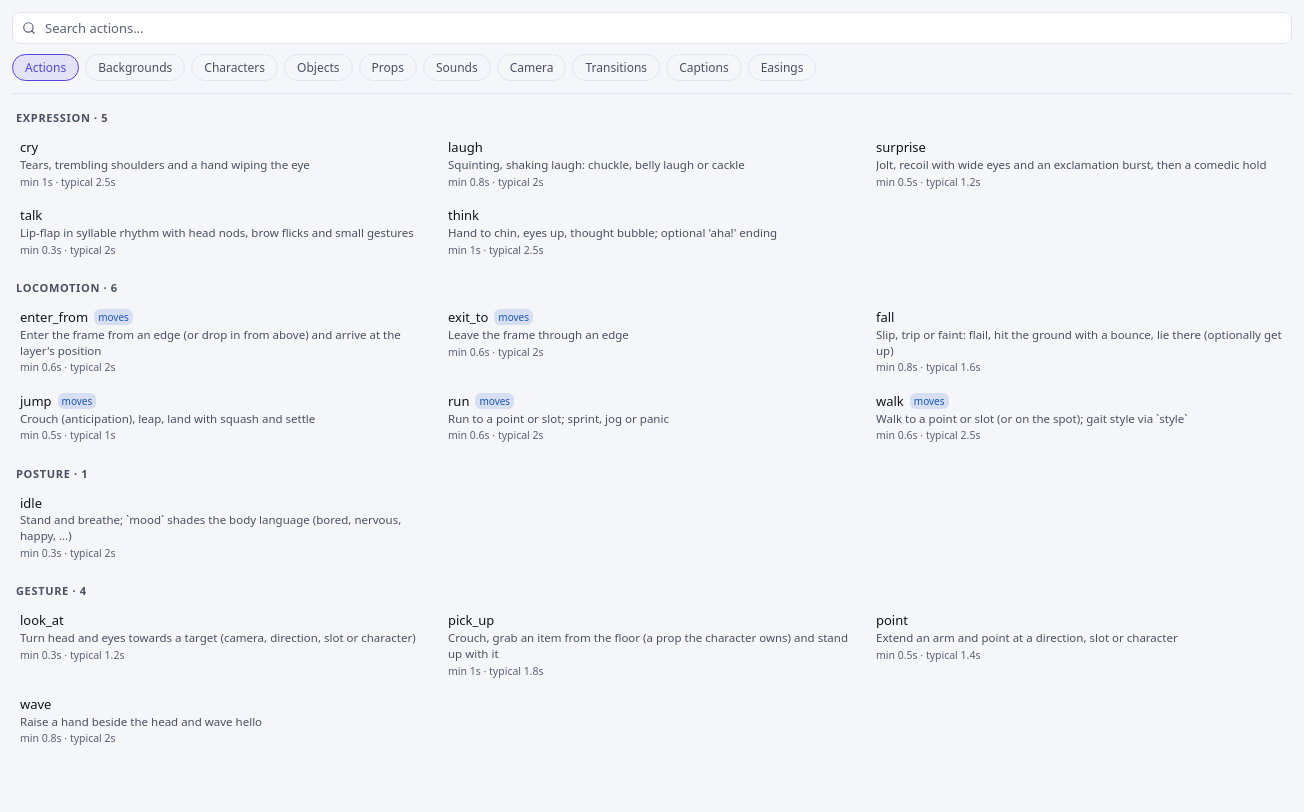
the library browser › searches by name and by what the entry says it does
The image size is (1304, 812).
Expected: the text "walk" is shown, [876,392,904,410]
In the field with placeholder "Search actions…": x=652, y=28 [12,12,1292,44], type "tears"
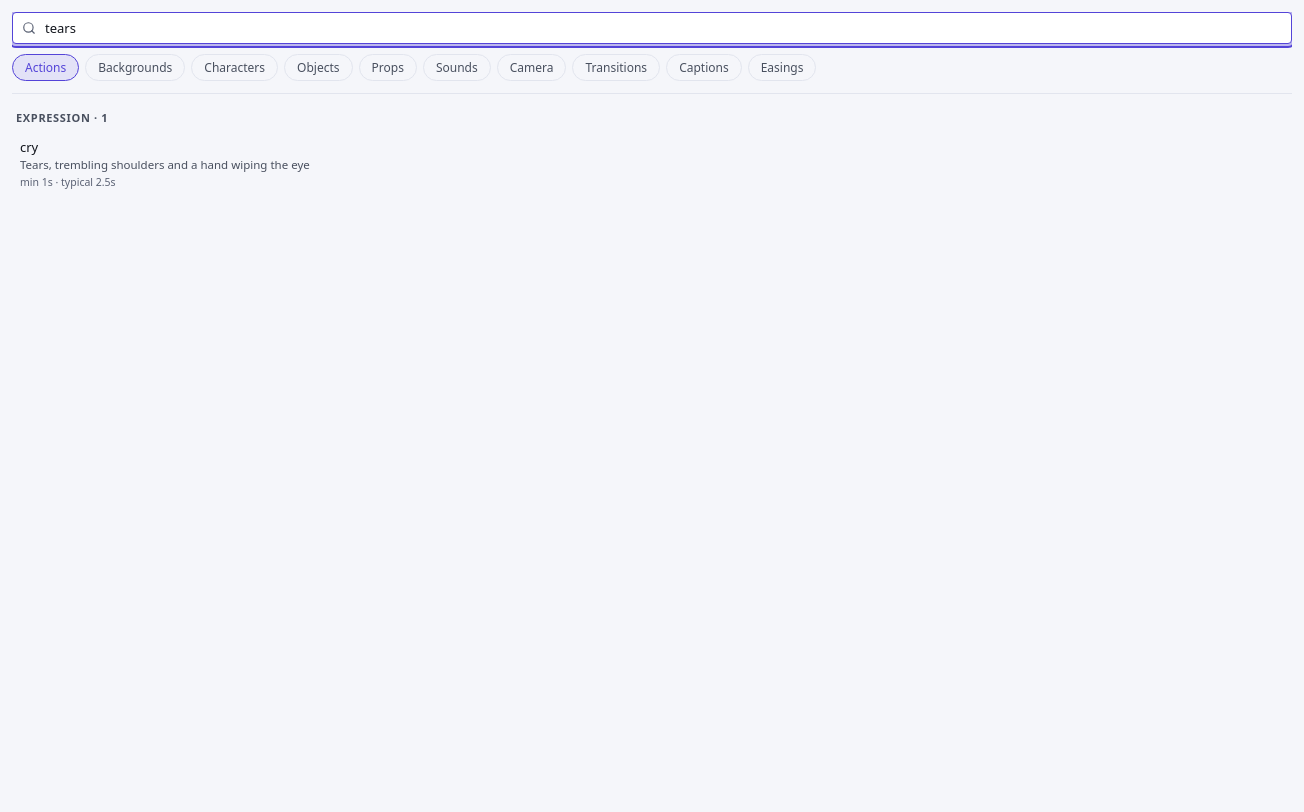
Expected: the text "cry" is shown, [20,138,38,157]
Now the text "walk" is gone
